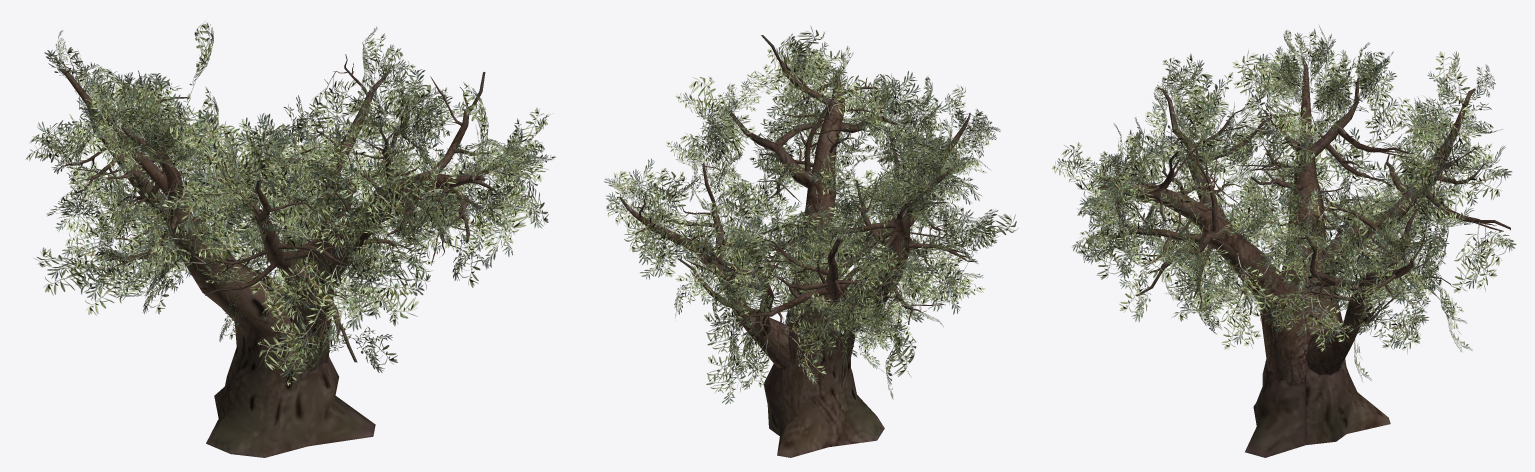
Rendered from olivier-vieux.glb.
3 views of the same model, side by side, from view 1: azimuth 30°, elevation 25°; view 2: azimuth 150°, elevation 25°; view 3: azimuth 270°, elevation 25° (orthographic). The views are drawn at different scales.
Visible parts, largest first — view 1: Object_2, Object_3; view 2: Object_2, Object_3; view 3: Object_2, Object_3.
Part boxes in pixels (left/top/right/bottom): Object_2: left=26, top=21, right=555, bottom=385; Object_3: left=56, top=54, right=515, bottom=457; Object_2: left=604, top=25, right=1018, bottom=404; Object_3: left=619, top=35, right=977, bottom=457; Object_2: left=1052, top=25, right=1516, bottom=381; Object_3: left=1086, top=55, right=1510, bottom=457.
Size of the model in its own units: 5.26 by 4.61 by 5.65.
Materials: 2 (2 with a texture image).
